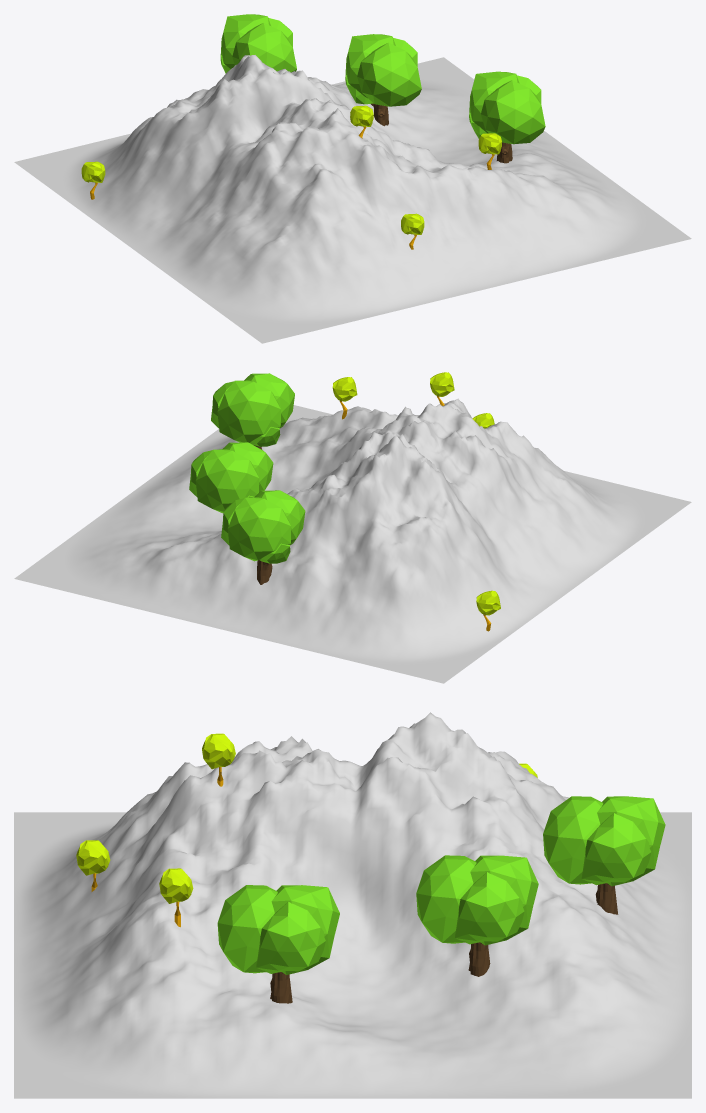
Rendered from sample_texture_terrain.fbx.
3 renders of one model, top to bottom at view 1: azimuth 30°, elevation 25°; view 2: azimuth 150°, elevation 25°; view 3: azimuth 270°, elevation 25°, orthographic. The views are drawn at different scales.
Parts seen in each view (by area): view 1: Landscape, Icosphere, Icosphere.001, Icosphere.002; view 2: Landscape, Icosphere.002, Icosphere.001, Icosphere, Hedra001.002, Hedra001.001, Hedra001; view 3: Landscape, Icosphere, Icosphere.002, Icosphere.001, Hedra001, Hedra001.003, Hedra001.001, Cylinder, Cylinder.001.
Boxes of the visible parts, x1,y1,x2,y2 form: Landscape: (14,55,691,343); Icosphere: (345,34,421,106); Icosphere.001: (469,71,545,144); Icosphere.002: (220,14,296,73); Landscape: (14,398,691,683); Icosphere.002: (221,490,305,563); Icosphere.001: (211,373,294,446); Icosphere: (189,442,273,513); Hedra001.002: (476,590,500,615); Hedra001.001: (430,372,454,396); Hedra001: (332,377,357,401); Landscape: (14,712,691,1098); Icosphere: (416,855,538,945); Icosphere.002: (543,796,665,886); Icosphere.001: (217,885,339,974); Hedra001: (159,868,193,903); Hedra001.003: (76,840,110,875); Hedra001.001: (202,733,235,769); Cylinder: (468,942,490,976); Cylinder.001: (270,972,292,1003).
Size of the model in its own units: 10820 by 3429 by 10820.
